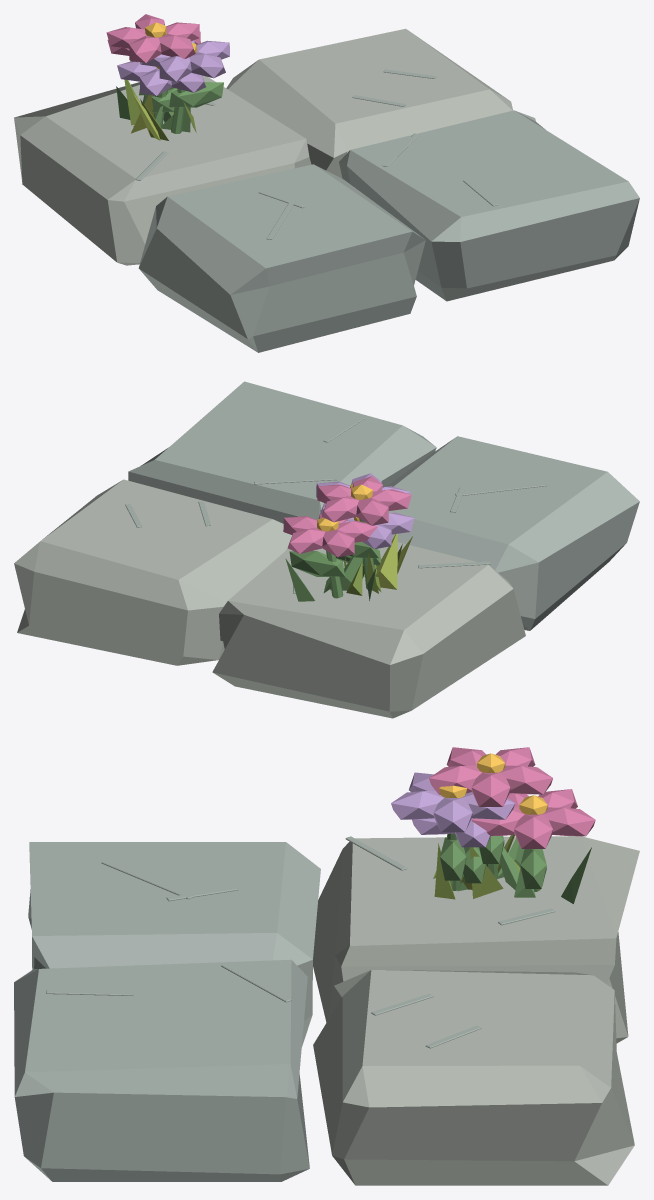
Rendered from slab_flowers_dark.glb.
The picture shows the model from 3 angles, top to bottom: view 1: azimuth 30°, elevation 25°; view 2: azimuth 150°, elevation 25°; view 3: azimuth 270°, elevation 25°; orthographic projection. The views are drawn at different scales.
Visible parts, largest first — view 1: slab_flowers_dark; view 2: slab_flowers_dark; view 3: slab_flowers_dark.
Part boxes in pixels (bbox=[...]): slab_flowers_dark: bbox=[14, 14, 639, 352]; slab_flowers_dark: bbox=[14, 381, 639, 718]; slab_flowers_dark: bbox=[14, 747, 639, 1185].
Bounding box in the file's own units: 1 × 0.4342 × 1.01.
